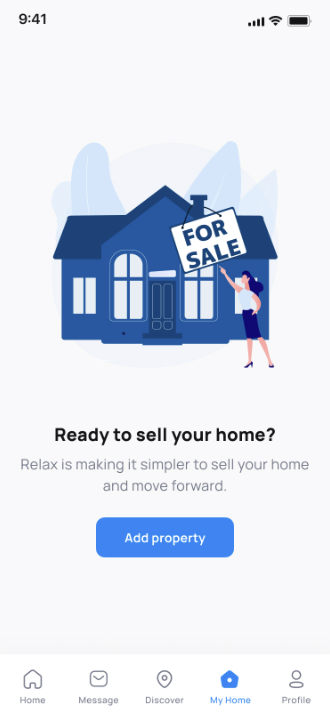BottomBar: (1, 654, 330, 718)
